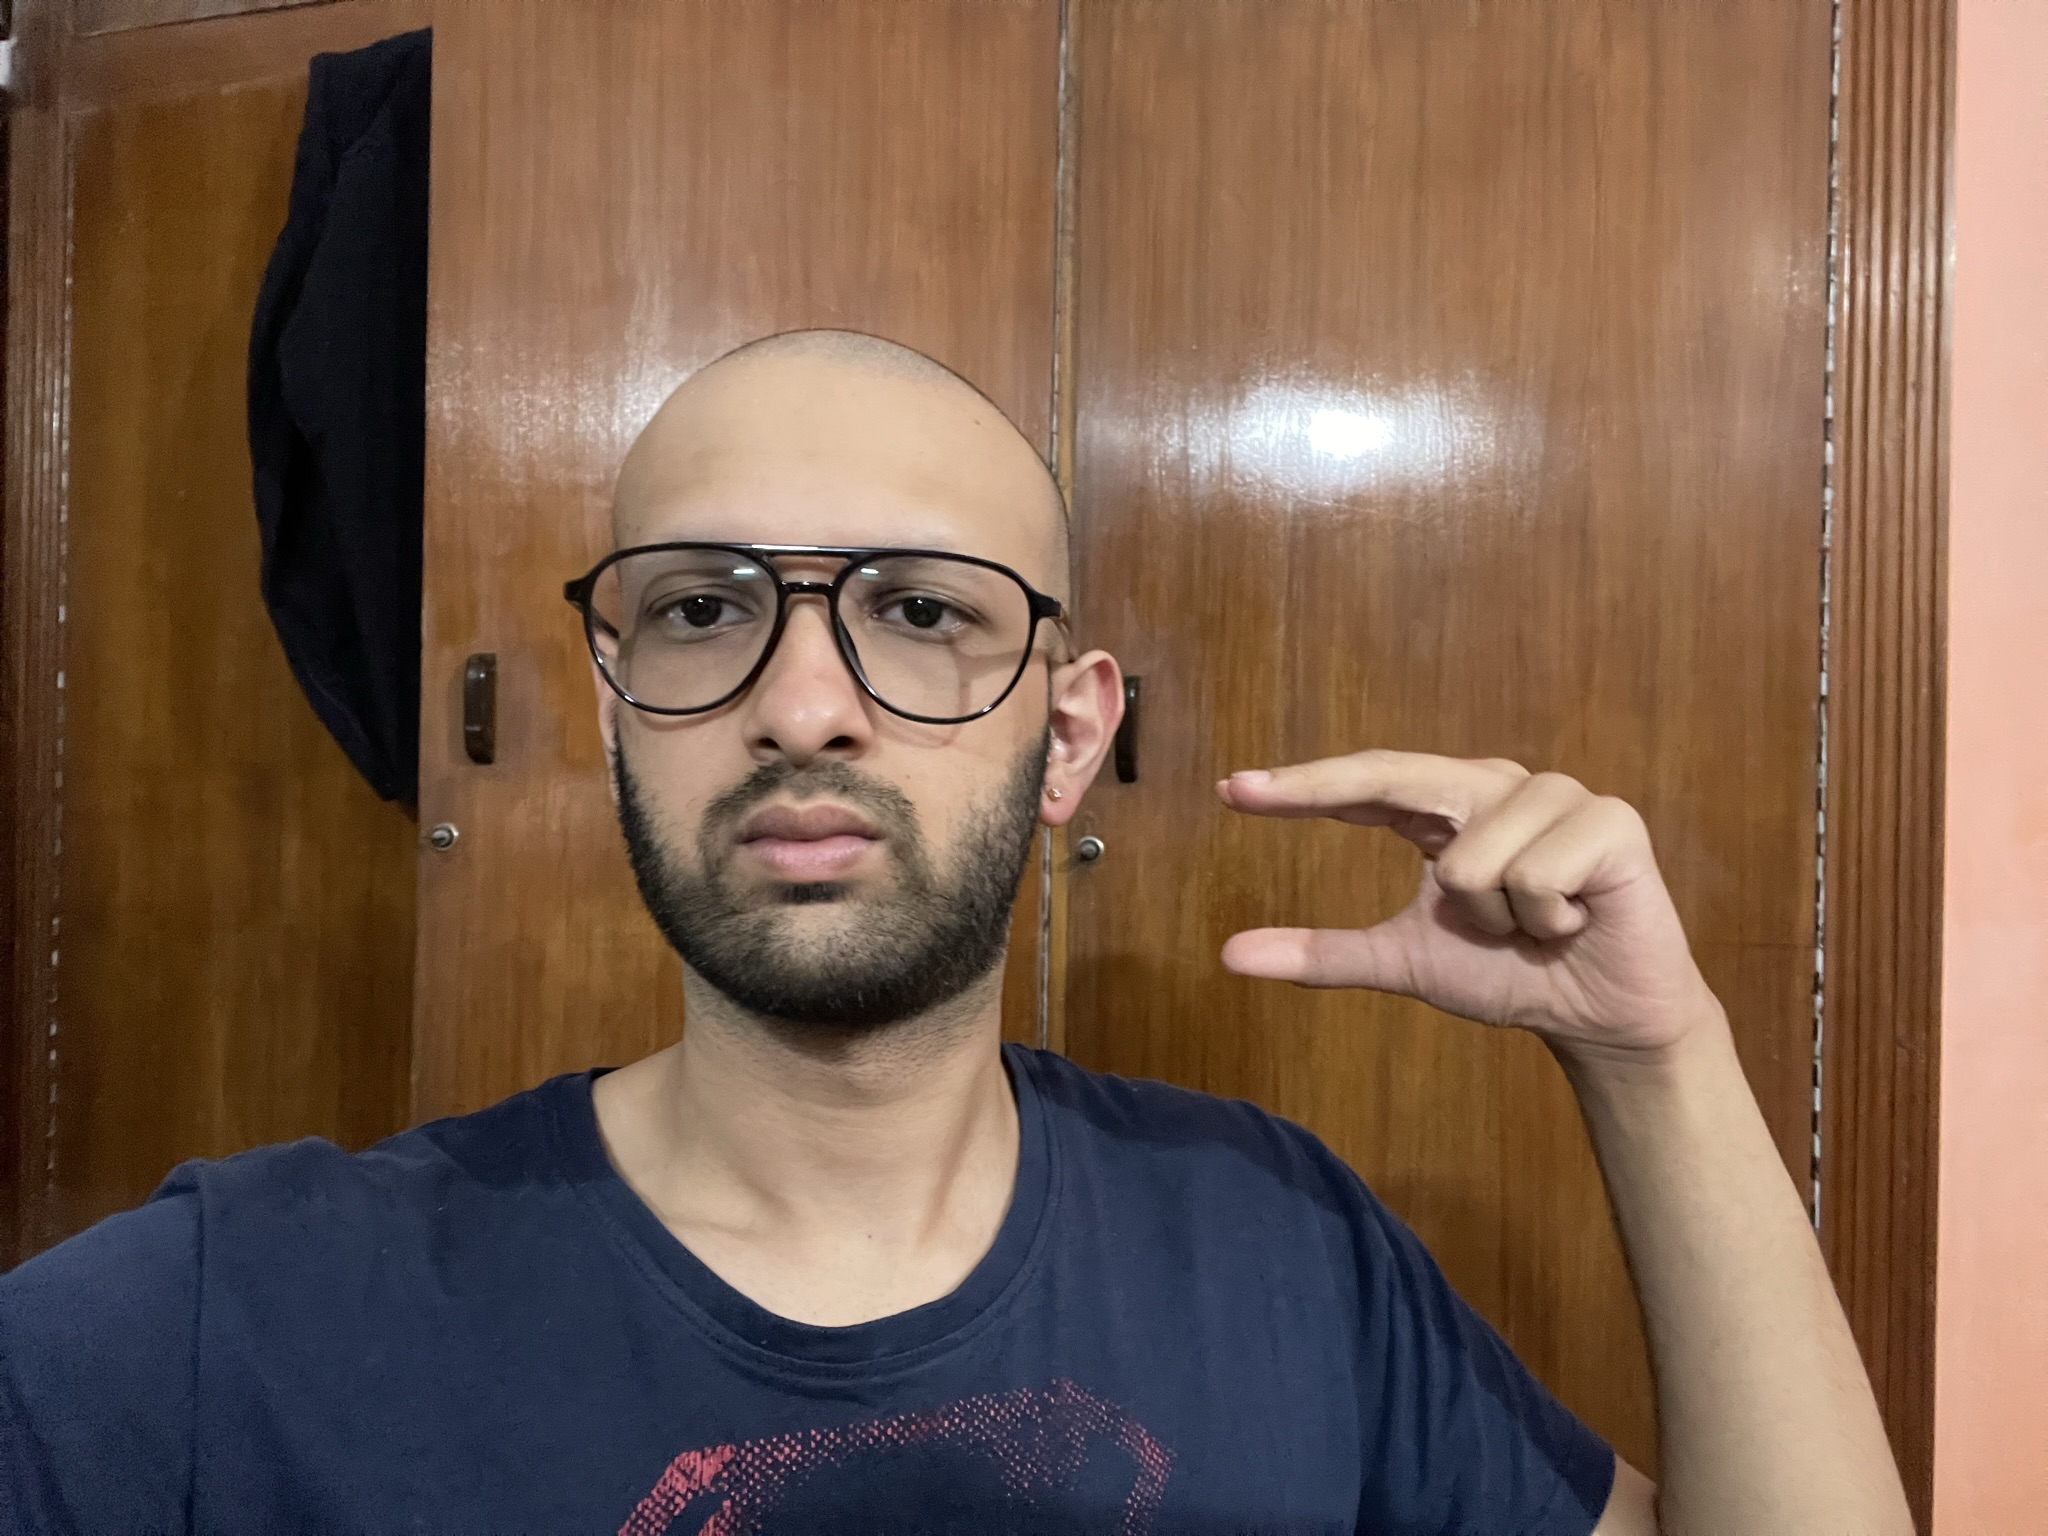No: (1206, 736, 1705, 1060)
